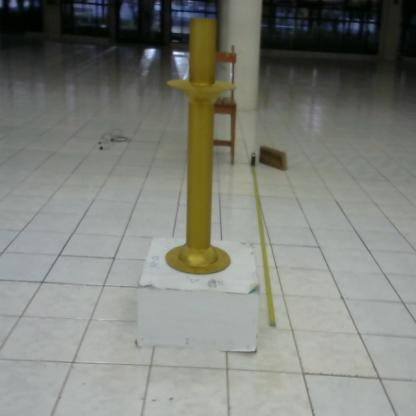pole: (162, 16, 238, 278)
